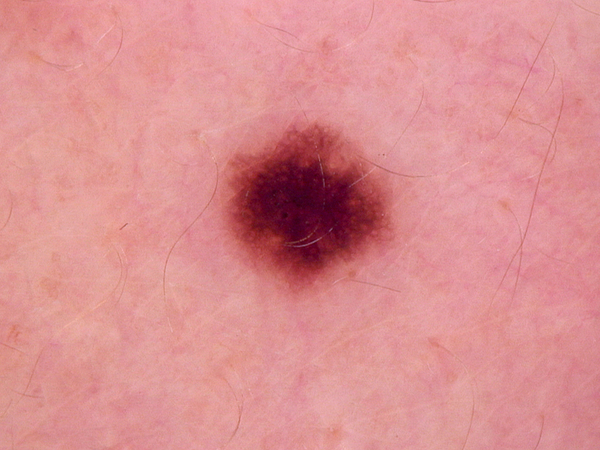Detected Lesion: (216, 123, 399, 288)
